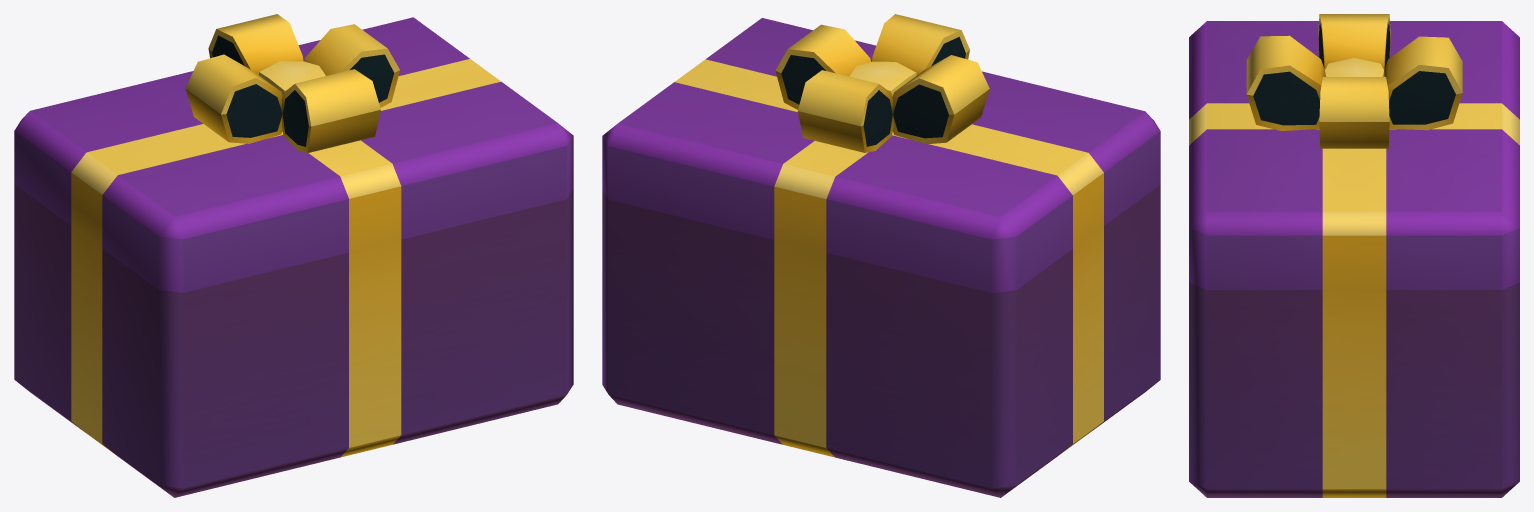
Rendered from presi_square_1_purple.fbx.
3 renders of one model, left to right at view 1: azimuth 30°, elevation 25°; view 2: azimuth 150°, elevation 25°; view 3: azimuth 270°, elevation 25°, orthographic.
Parts seen in each view (by area): view 1: presi_square_1_purple; view 2: presi_square_1_purple; view 3: presi_square_1_purple.
Boxes of the visible parts, x1,y1,x2,y2 form: presi_square_1_purple: [14, 14, 573, 497]; presi_square_1_purple: [602, 14, 1160, 497]; presi_square_1_purple: [1189, 14, 1519, 497].
Bounding box in the file's own units: 156 × 124 × 106.
1 material, 1 textured.
